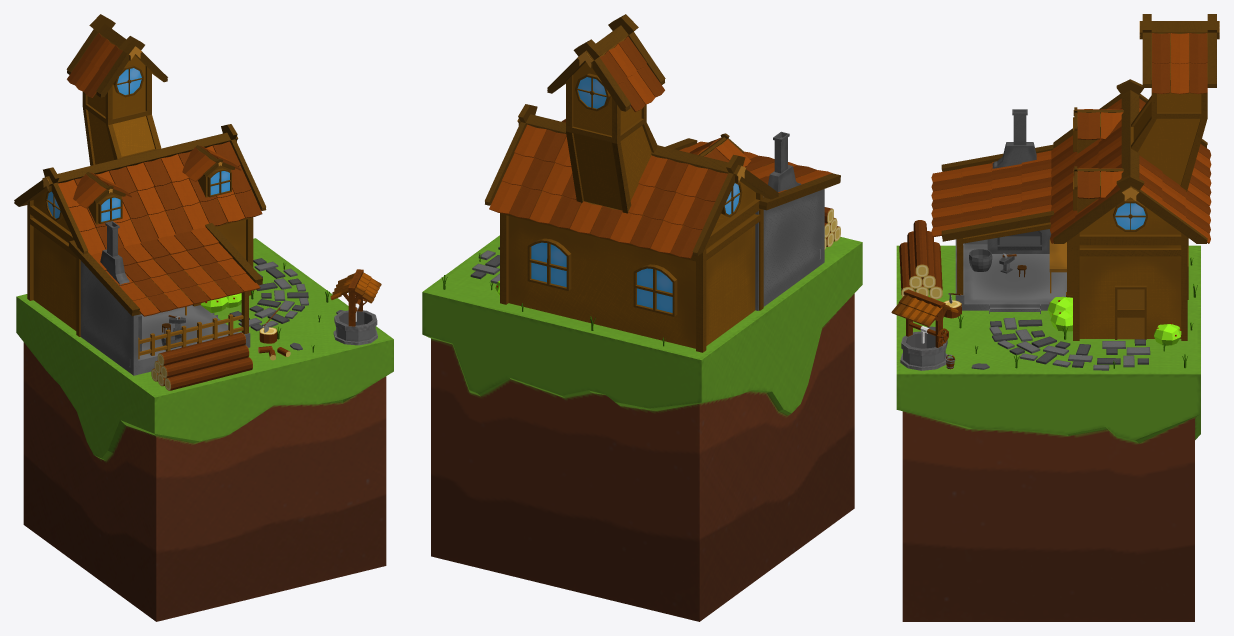
File: Concepts_10.fbx
3 renders of one model, left to right at view 1: azimuth 30°, elevation 25°; view 2: azimuth 150°, elevation 25°; view 3: azimuth 270°, elevation 25°, orthographic. The views are drawn at different scales.
Parts seen in each view (by area): view 1: Cube.120, Cube.136, Cube.125, Cube.122, Cube.121, Cube.126; view 2: Cube.120, Cube.136, Cube.126; view 3: Cube.120, Cube.136, Cube.121, Cube.122, Cube.125, Cube.126, Cube.135, Cube.133, Cube.134, Cube.128, Cube.025.
Boxes of the visible parts, bbox=[...] form: Cube.120: bbox=[16, 238, 393, 621]; Cube.136: bbox=[14, 14, 266, 375]; Cube.125: bbox=[151, 332, 252, 390]; Cube.122: bbox=[330, 269, 381, 345]; Cube.121: bbox=[229, 258, 308, 331]; Cube.126: bbox=[100, 221, 142, 351]; Cube.120: bbox=[422, 235, 862, 621]; Cube.136: bbox=[485, 14, 840, 352]; Cube.126: bbox=[768, 131, 801, 192]; Cube.120: bbox=[896, 245, 1200, 621]; Cube.136: bbox=[931, 14, 1219, 340]; Cube.121: bbox=[989, 317, 1150, 370]; Cube.122: bbox=[891, 289, 958, 370]; Cube.125: bbox=[899, 220, 942, 299]; Cube.126: bbox=[987, 109, 1051, 253]; Cube.135: bbox=[1047, 296, 1072, 331]; Cube.133: bbox=[1049, 240, 1066, 293]; Cube.134: bbox=[1154, 323, 1181, 345]; Cube.128: bbox=[969, 249, 992, 271]; Cube.025: bbox=[927, 257, 1197, 369].
Bounding box in the file's own units: 306 × 580 × 325.
